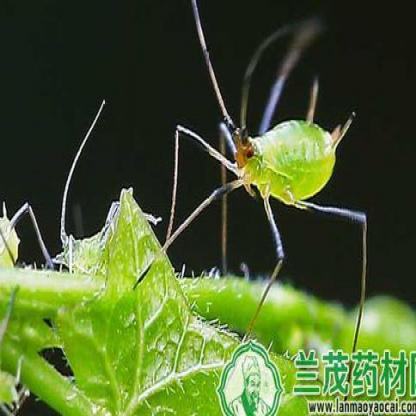aphid: (138, 11, 376, 318)
